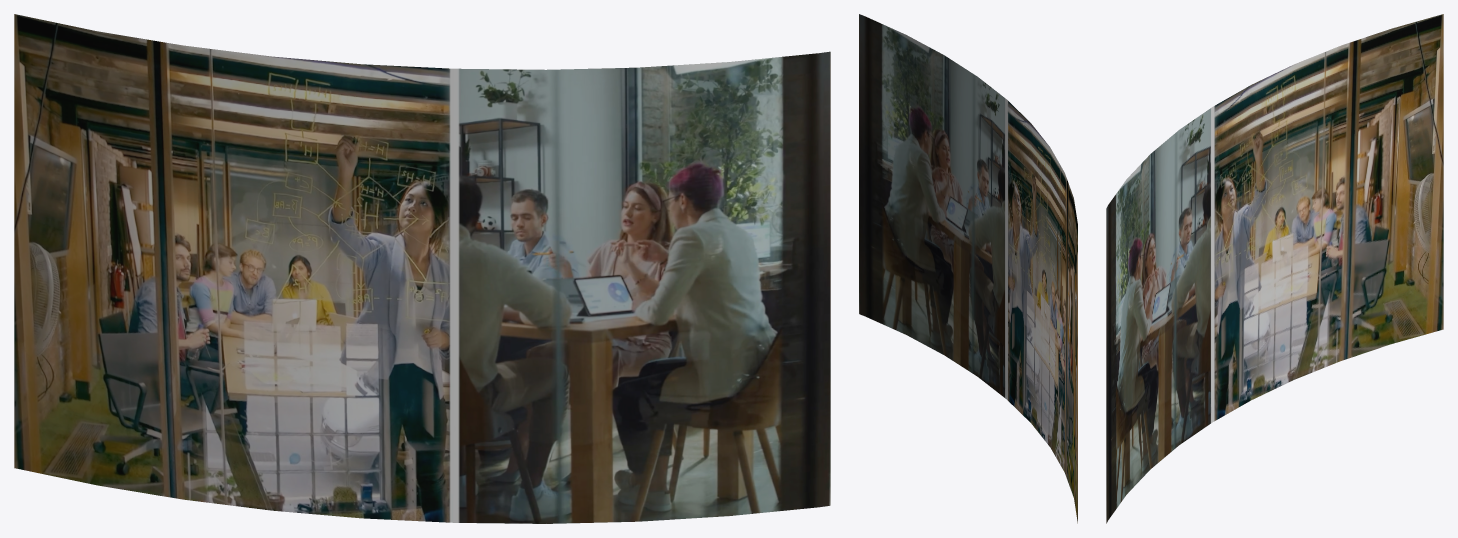
The model's file is TZ_Curved_screens_03.glb.
3 renders of one model, left to right at view 1: azimuth 30°, elevation 25°; view 2: azimuth 150°, elevation 25°; view 3: azimuth 270°, elevation 25°, orthographic. The views are drawn at different scales.
Parts seen in each view (by area): view 1: TZ_Curved_screens_03; view 2: TZ_Curved_screens_03; view 3: TZ_Curved_screens_03.
Part boxes in pixels (bbox=[...]): TZ_Curved_screens_03: bbox=[14, 14, 830, 523]; TZ_Curved_screens_03: bbox=[859, 14, 1077, 523]; TZ_Curved_screens_03: bbox=[1106, 14, 1443, 523].
Bounding box in the file's own units: 2.8 × 2.12 × 2.05.
Materials: 1 (1 with a texture image).
